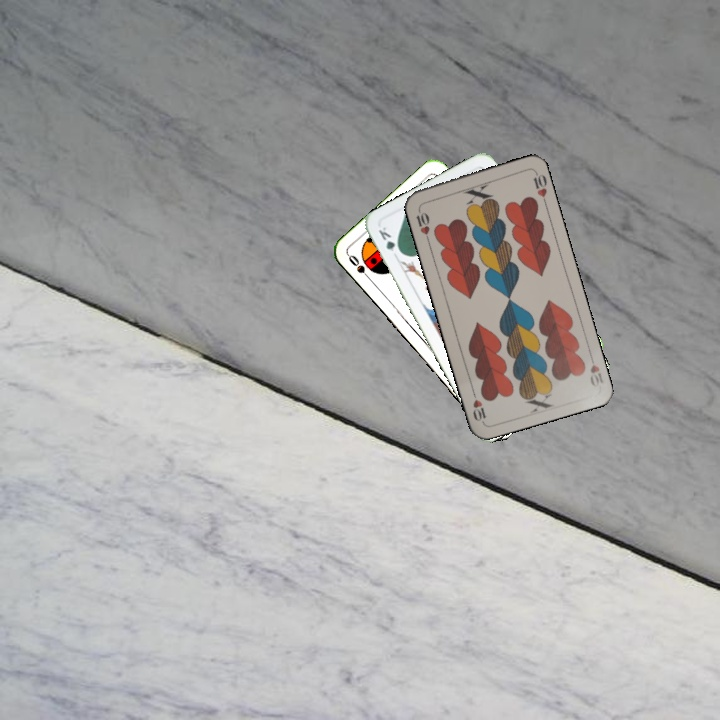GK: (374, 222, 405, 257)
H10: (585, 350, 606, 390), (412, 203, 432, 243)
SO: (344, 250, 375, 285)
